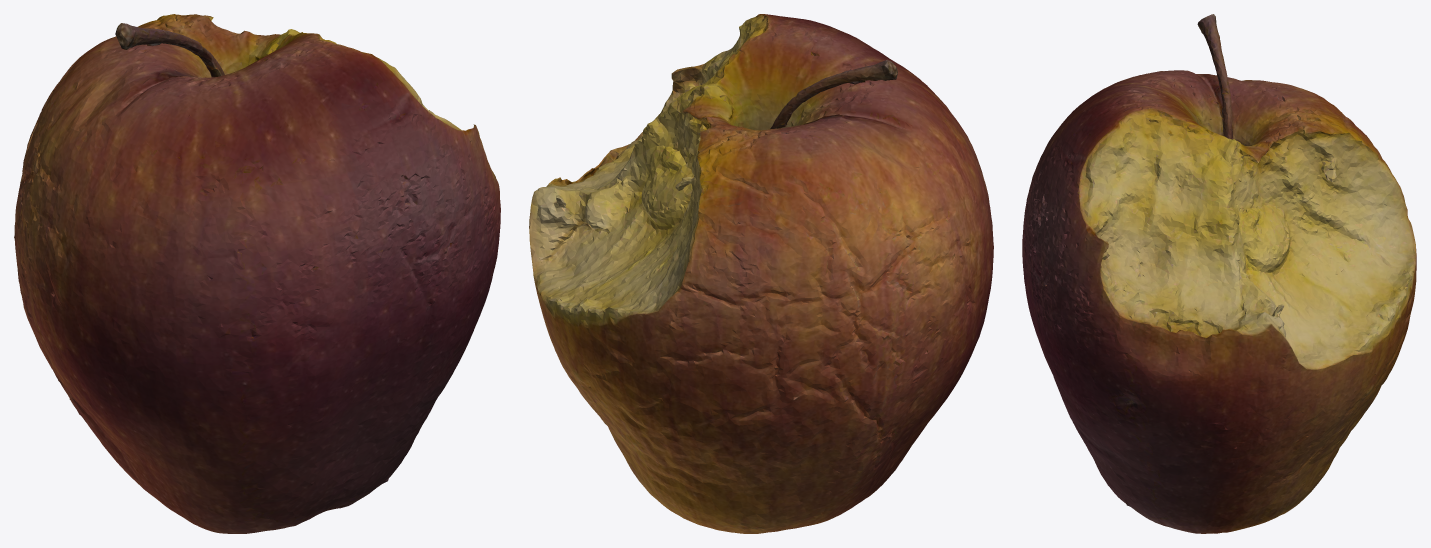
3 views of the same model, side by side, from view 1: azimuth 30°, elevation 25°; view 2: azimuth 150°, elevation 25°; view 3: azimuth 270°, elevation 25° (orthographic). The views are drawn at different scales.
Visible parts, largest first — view 1: Apple_02_Apple_2_u1_v1_0; view 2: Apple_02_Apple_2_u1_v1_0; view 3: Apple_02_Apple_2_u1_v1_0.
Part boxes in pixels (x1=…): Apple_02_Apple_2_u1_v1_0: x1=14, y1=14, x2=500, y2=533; Apple_02_Apple_2_u1_v1_0: x1=529, y1=14, x2=993, y2=533; Apple_02_Apple_2_u1_v1_0: x1=1022, y1=14, x2=1416, y2=533.
Bounding box in the file's own units: 24.82 × 27.7 × 23.25.
1 material, 1 textured.
